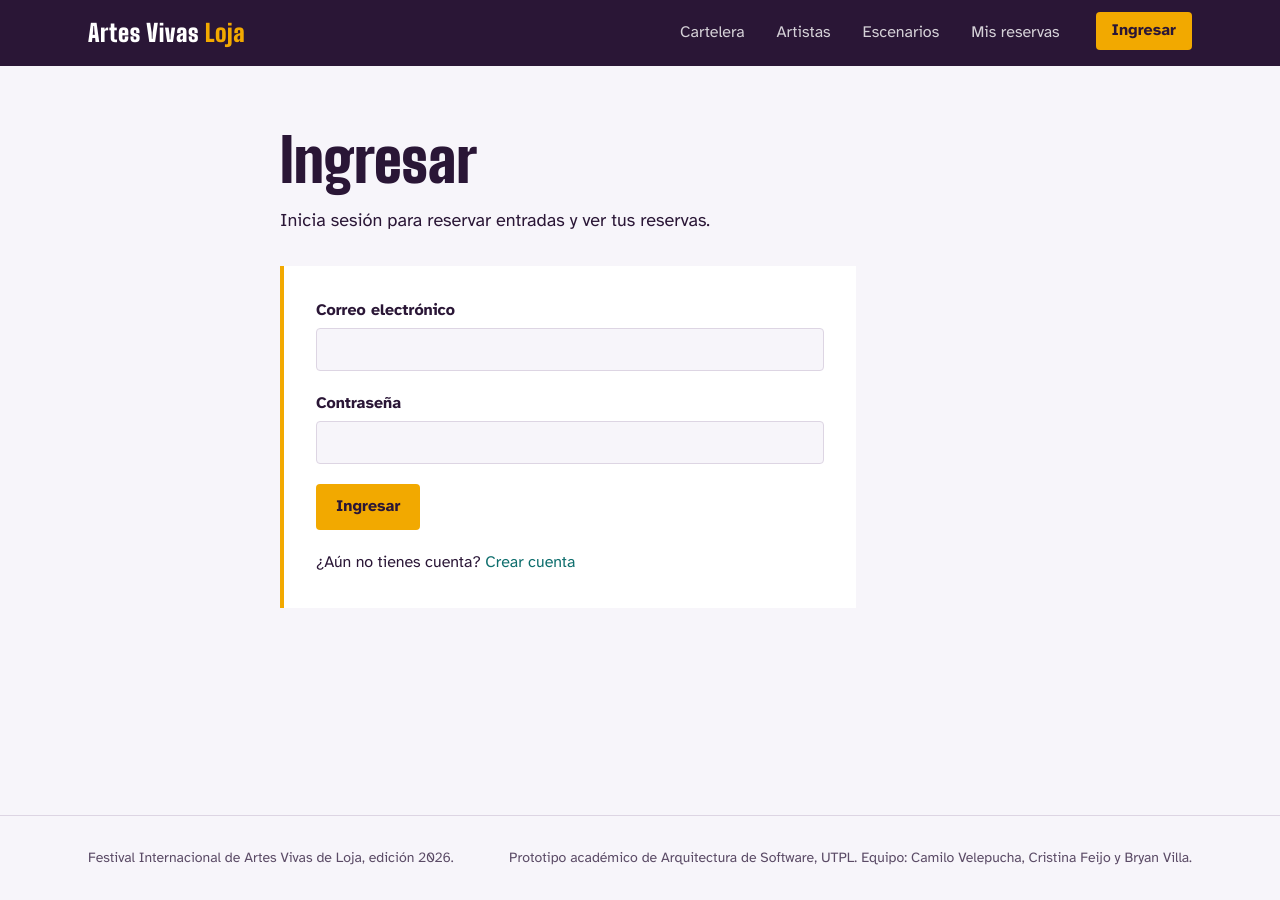
Test: sesión y pantallas de autenticación › redirige a ingresar y regresa a la ruta protegida después del login
Expected: the heading "Ingresar" is shown, [280, 124, 477, 196]
Type "ana@festival.ec" into the field labelled "Correo electrónico" at point(570, 349), box [316, 328, 824, 371]
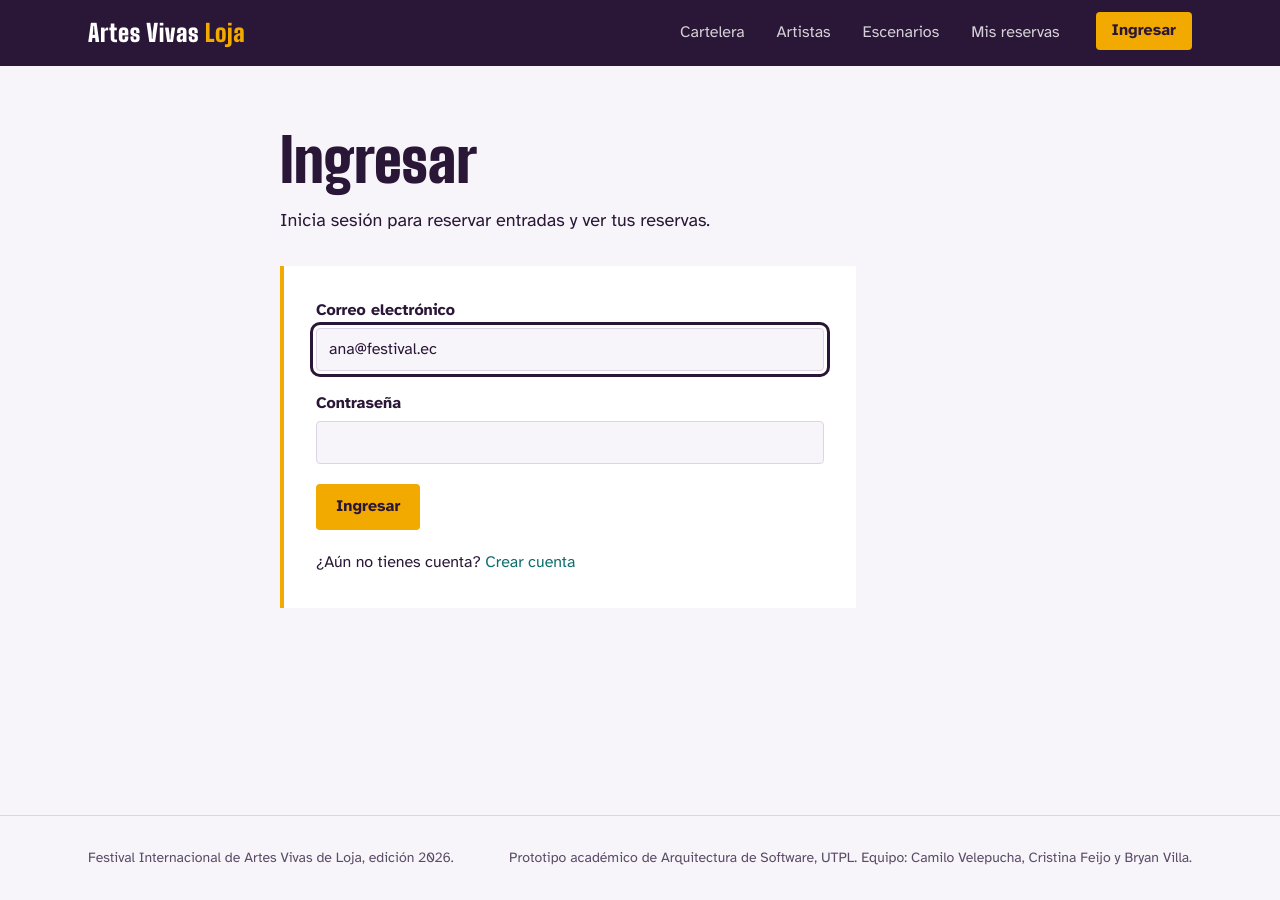
Type "festival2026" into the password field labelled "Contraseña" at point(570, 443), box [316, 421, 824, 464]
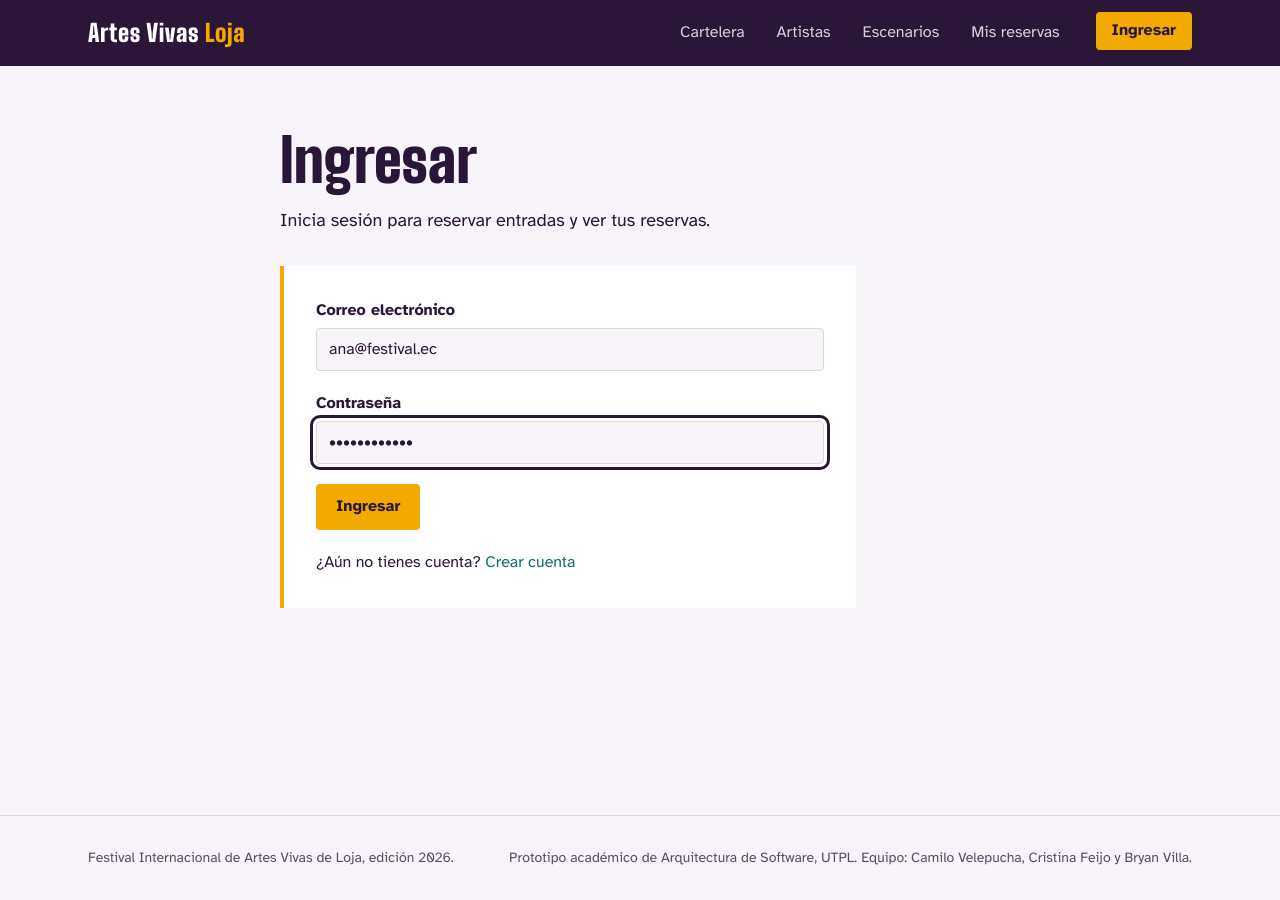
Click the button "Ingresar" at point(368, 507), box [316, 484, 420, 530]
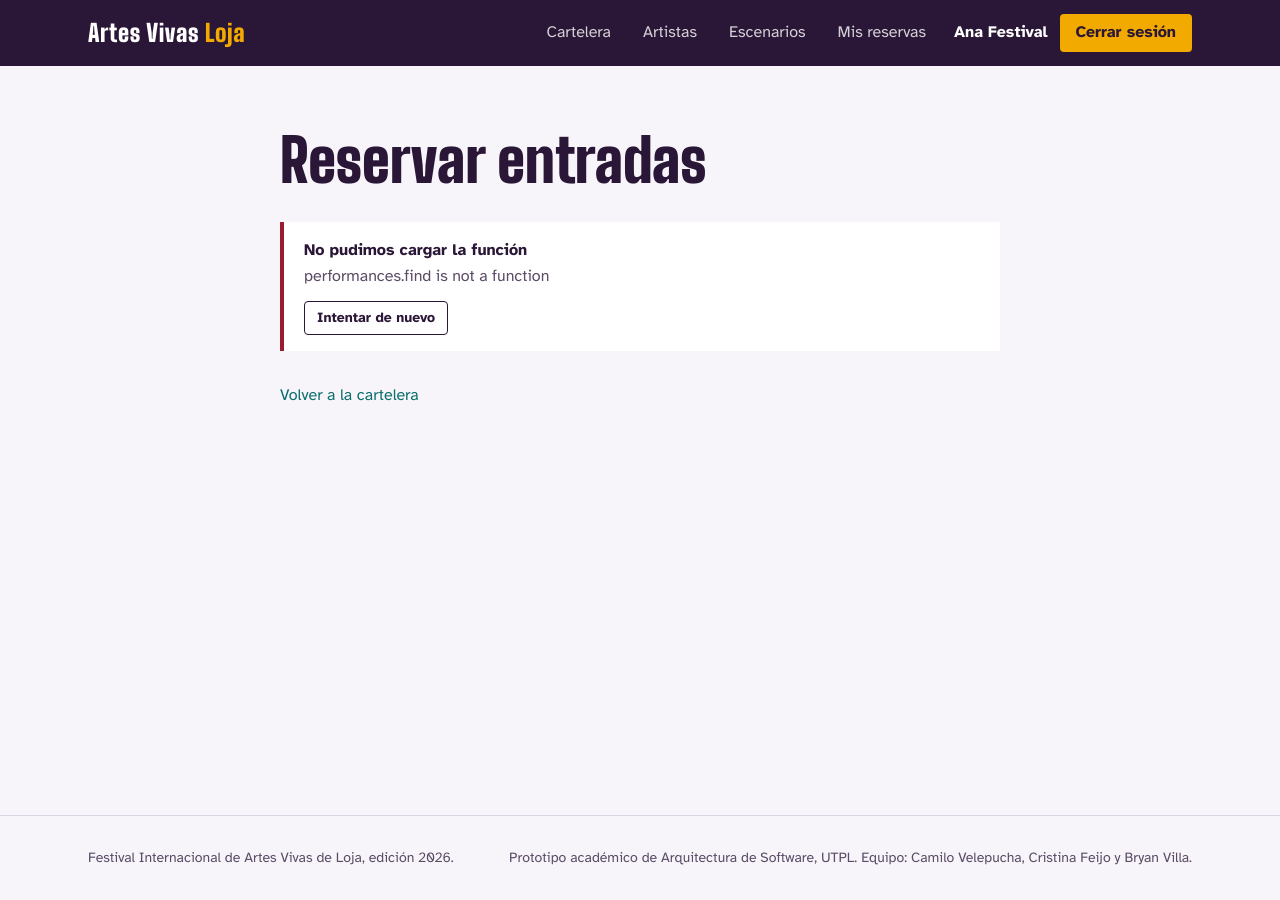
Expected: the heading "Reservar entradas" is shown, [280, 124, 706, 196]
Result: the text "Ana Festival" is shown at [954, 20, 1048, 46]
Click the button "Cerrar sesión" at point(1126, 33), box [1060, 14, 1192, 52]
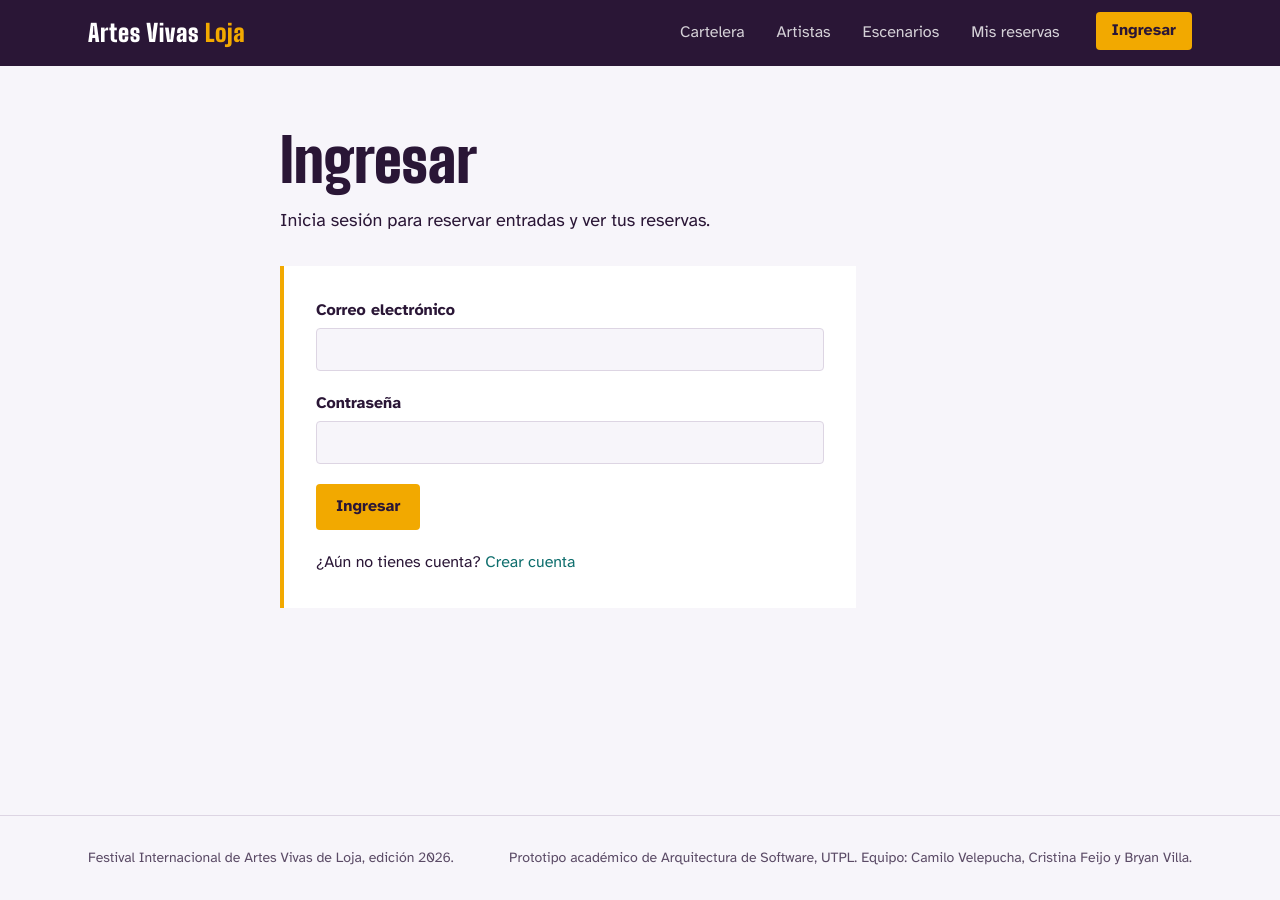
Result: the link "Ingresar" is shown at [1096, 12, 1192, 50]
